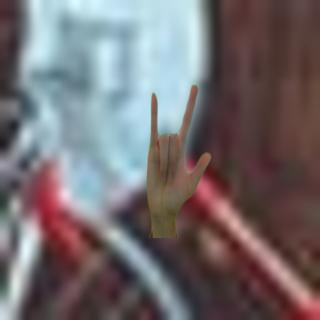ILY: (141, 82, 217, 218)
